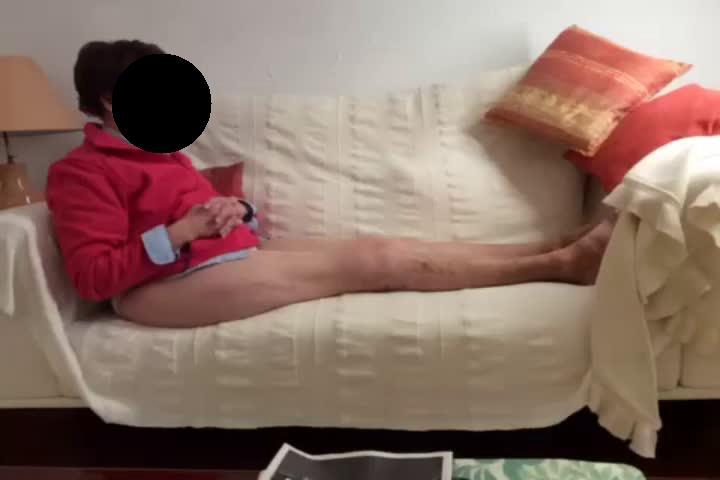lower_body: (131, 201, 622, 331)
